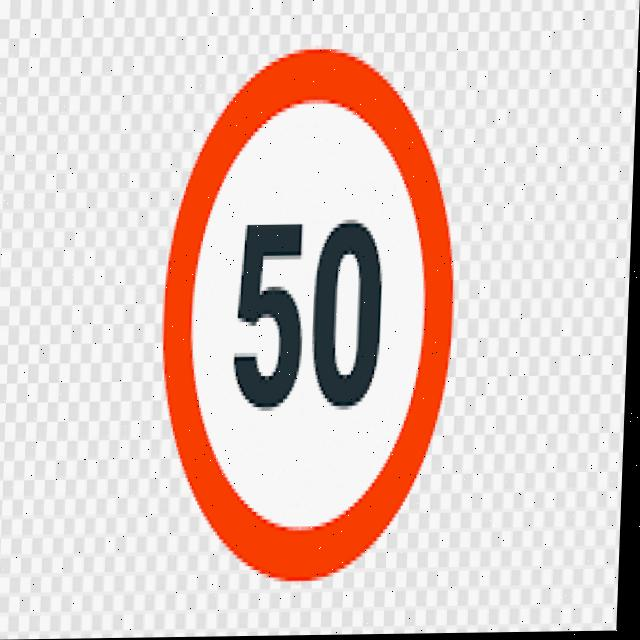Speed limit 50: (156, 42, 466, 584)
